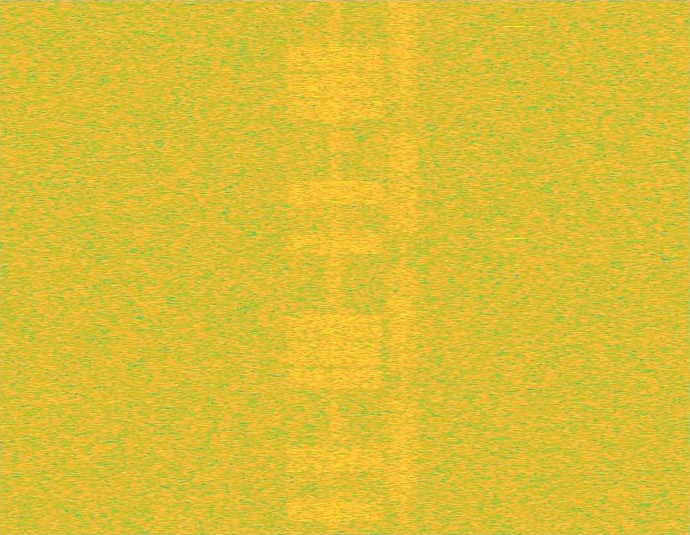5G: (386, 0, 421, 534)
DSSS: (328, 0, 342, 534), (400, 0, 408, 534)
LTE: (283, 0, 386, 534)
Radar: (508, 0, 521, 534)
